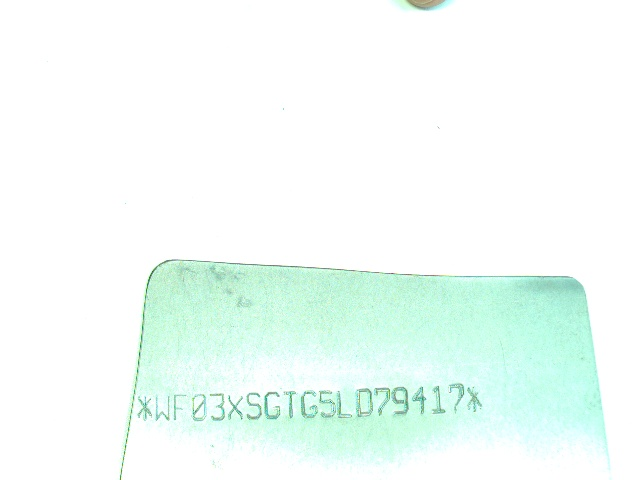0: (190, 392, 208, 422)
1: (431, 383, 447, 415)
3: (208, 391, 227, 423)
4: (411, 385, 430, 416)
5: (318, 387, 336, 421)
7: (446, 380, 466, 416), (372, 386, 390, 420)
9: (390, 385, 411, 416)
d: (355, 386, 374, 419)
f: (172, 392, 189, 421)
g: (300, 388, 320, 421), (264, 390, 282, 420)
l: (334, 389, 353, 419)
s: (245, 391, 264, 421)
t: (281, 388, 301, 421)
w: (153, 394, 171, 421)
x: (226, 391, 244, 421)
